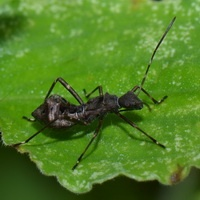insect: (10, 16, 175, 169)
